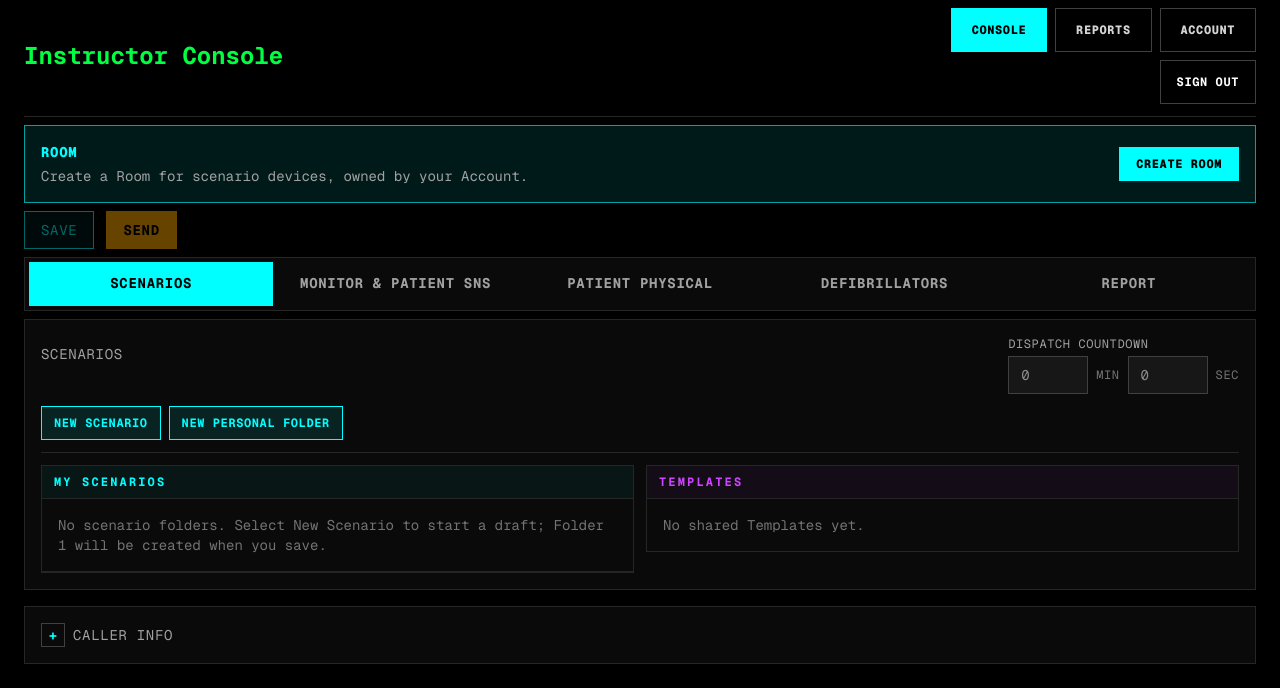
Scenario: AdminPage scenario library integration › auto-creates Folder 1 and saves when the scenario library is empty
Check: the text "No scenario folders. Select New Scenario to start a draft; Folder 1 will be created when you save." is shown, box x1=58 y1=516 x2=604 y2=554
Click the button "New Scenario".
click(101, 423)  # box x1=41 y1=406 x2=161 y2=440
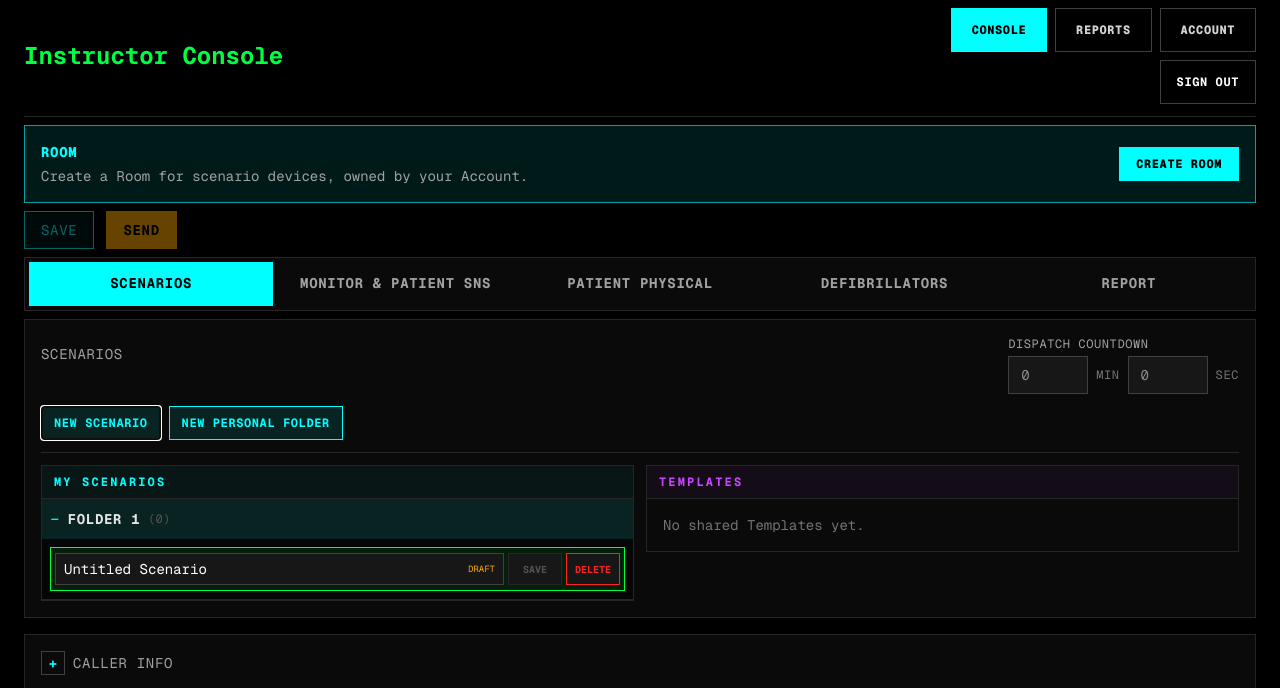
Check: the button with aria-label "Save Untitled Scenario" is disabled, box x1=508 y1=553 x2=562 y2=585
Check: the element named "Folder 1 scenarios" is shown, box x1=42 y1=539 x2=633 y2=599
Click the button named "Expand Caller Info".
click(53, 663)  # box x1=41 y1=651 x2=65 y2=675
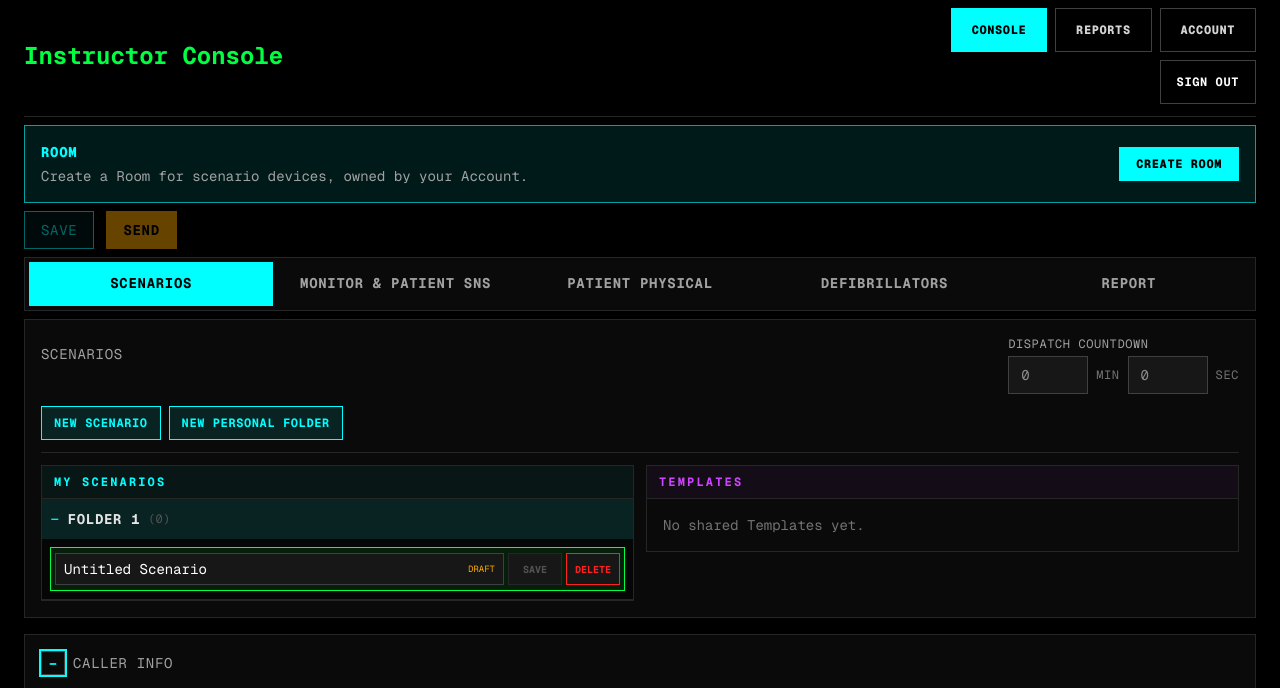
Double-click the button with aria-label "Rename Untitled Scenario".
double_click(135, 569)  # box x1=64 y1=560 x2=207 y2=578
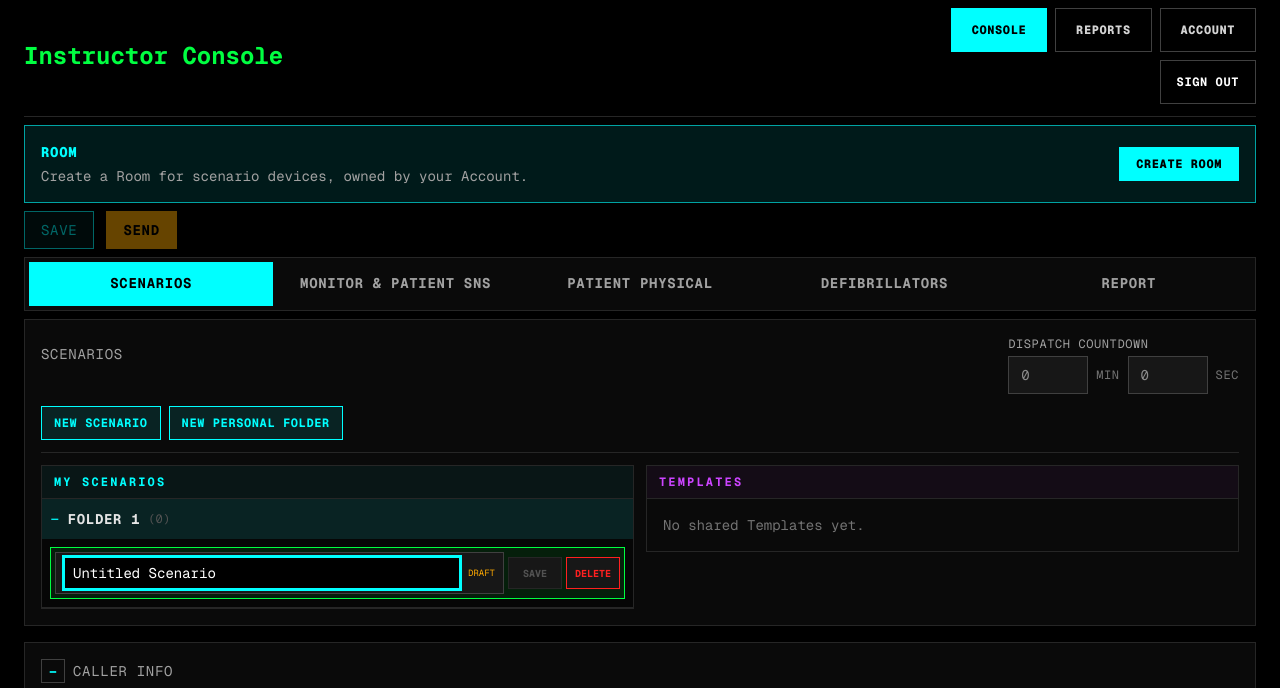
Replace the text in the field named "Rename Untitled Scenario" with "Title Only" at (262,573), box x1=64 y1=557 x2=460 y2=589
Then press Enter
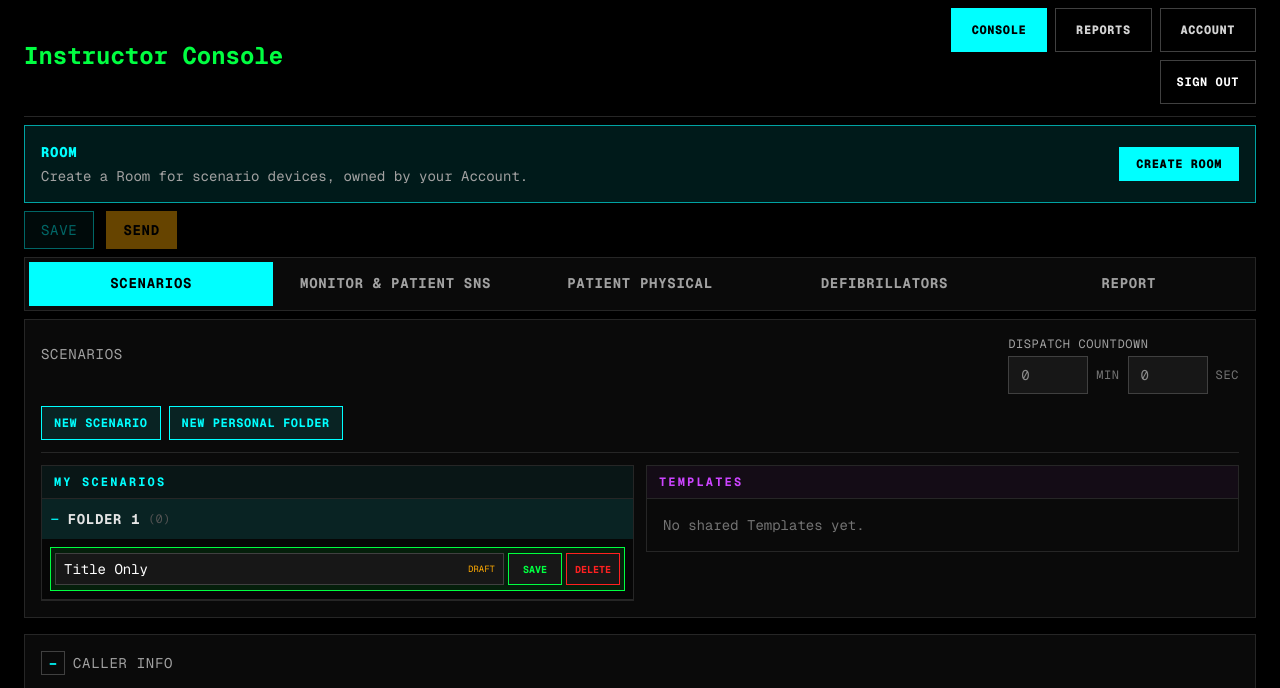
Check: the button with aria-label "Save Title Only" is enabled
Click the button with aria-label "Save Title Only".
click(535, 569)  # box x1=508 y1=553 x2=562 y2=585
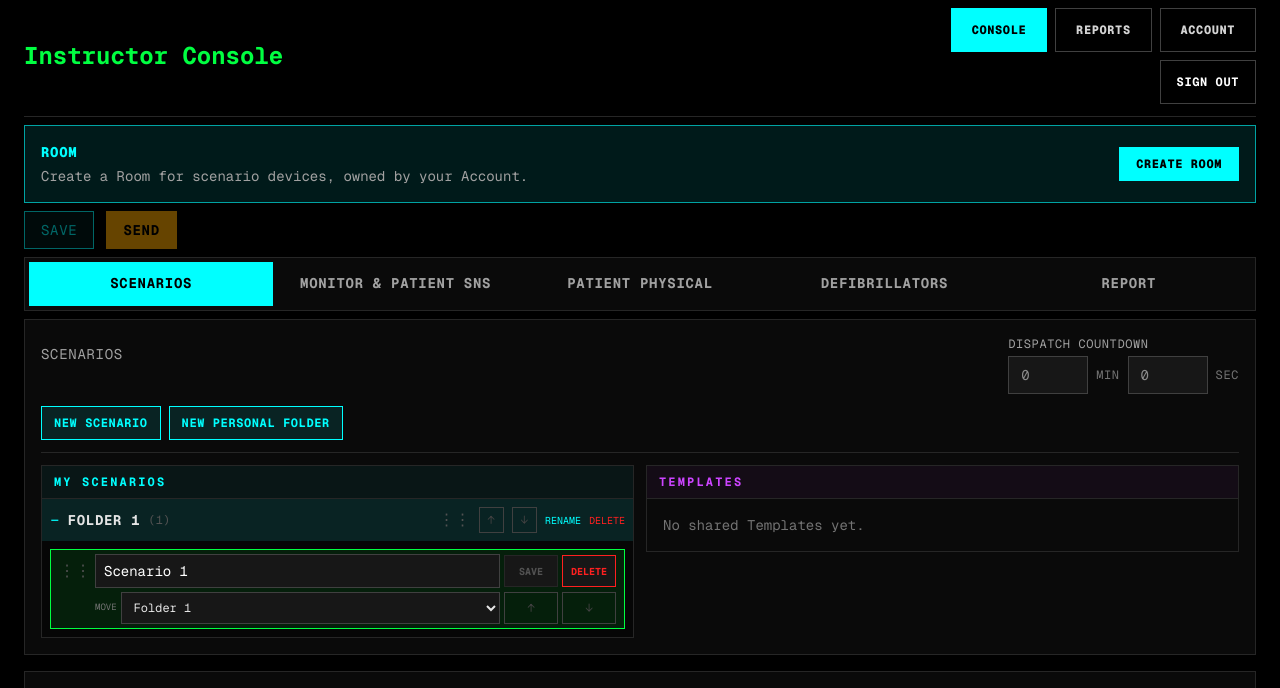
Check: the button with aria-label "Unload Scenario 1 from title" is shown, box x1=104 y1=562 x2=188 y2=580
